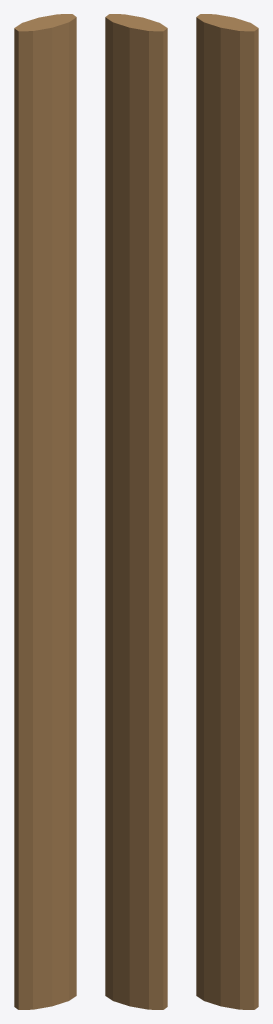
Rendered from cartel_ghost_poste_der_001_lev3.glb.
The picture shows the model from 3 angles, left to right: view 1: azimuth 30°, elevation 25°; view 2: azimuth 150°, elevation 25°; view 3: azimuth 330°, elevation 25°; orthographic projection.
Parts seen in each view (by area): view 1: cartel_ghost_poste_der_001_lev3; view 2: cartel_ghost_poste_der_001_lev3; view 3: cartel_ghost_poste_der_001_lev3.
Boxes of the visible parts, x1,y1,x2,y2 form: cartel_ghost_poste_der_001_lev3: (14, 14, 76, 1009); cartel_ghost_poste_der_001_lev3: (105, 14, 167, 1009); cartel_ghost_poste_der_001_lev3: (196, 14, 258, 1009).
Bounding box in the file's own units: 0.4902 × 7.87 × 0.2.
